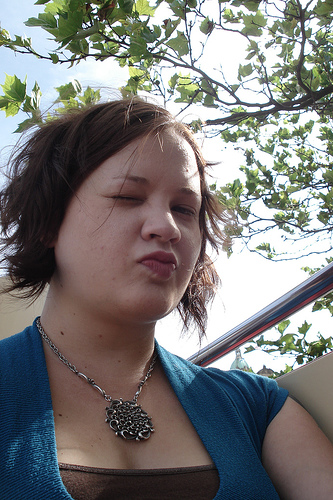without_mask: (7, 98, 229, 342)
